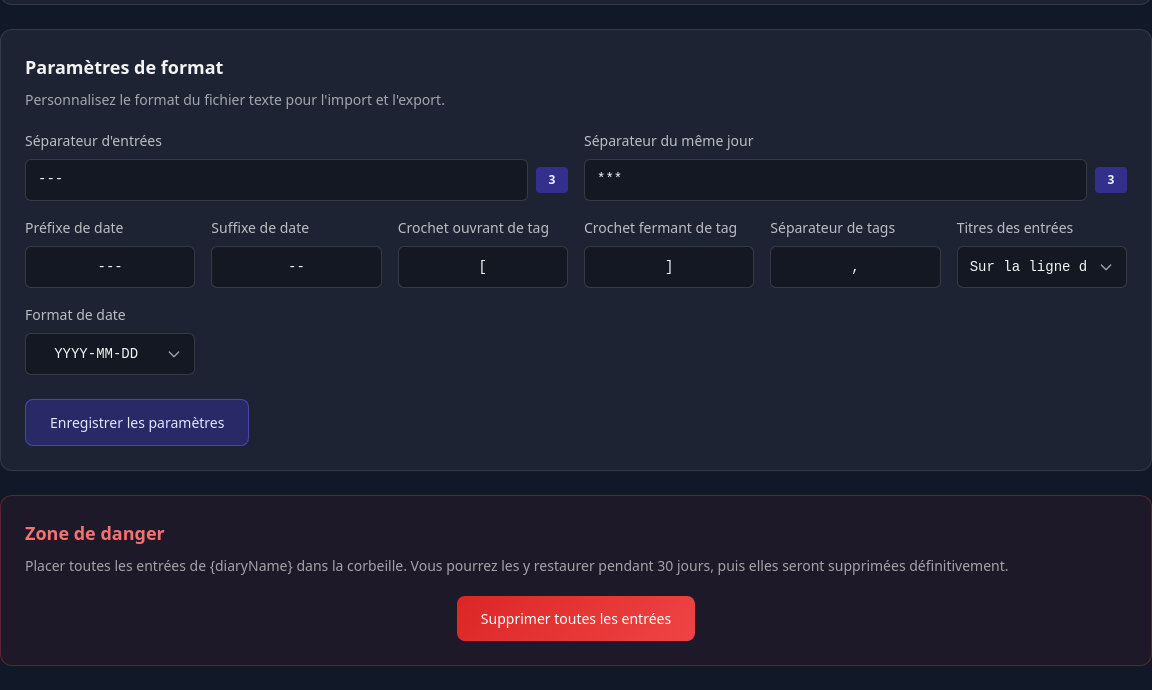
Test case: ImportExport refusals › shows the reason a refused format save gives, in fr
The width and height of the screenshot is (1152, 690).
(page scrolled)
Click the button "Enregistrer les paramètres" at (137, 423), box [25,399,250,446]
(page scrolled)
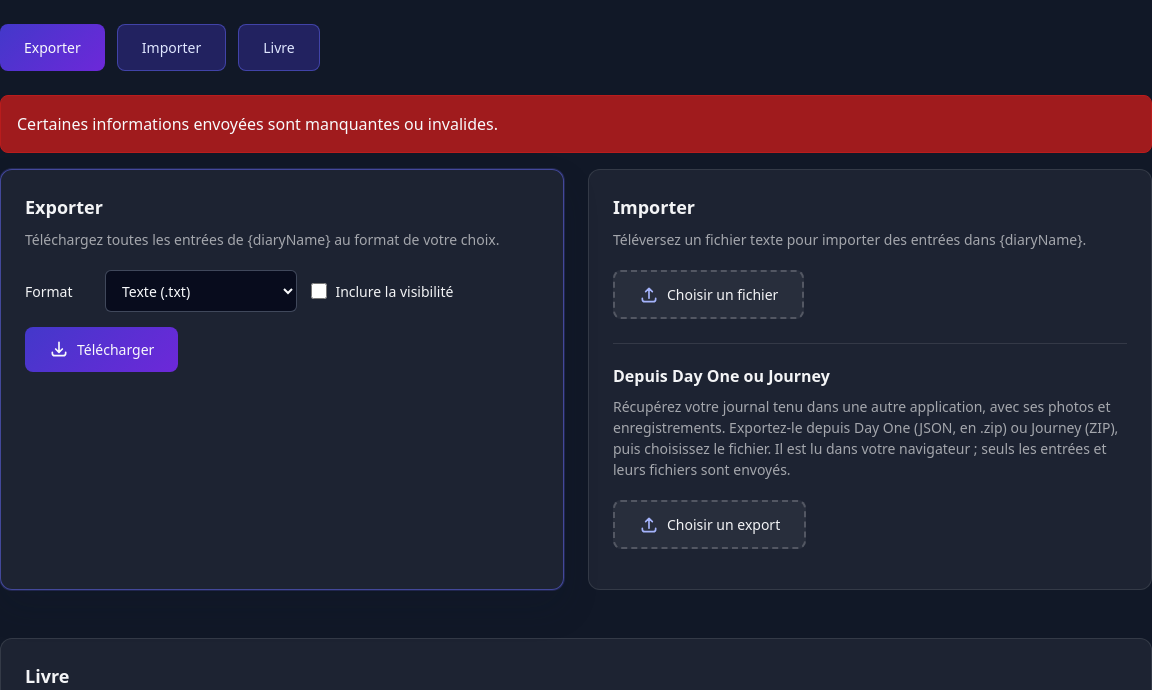
Expected: the text "Certaines informations envoyées sont manquantes ou invalides." is shown, [0,95,1151,153]
